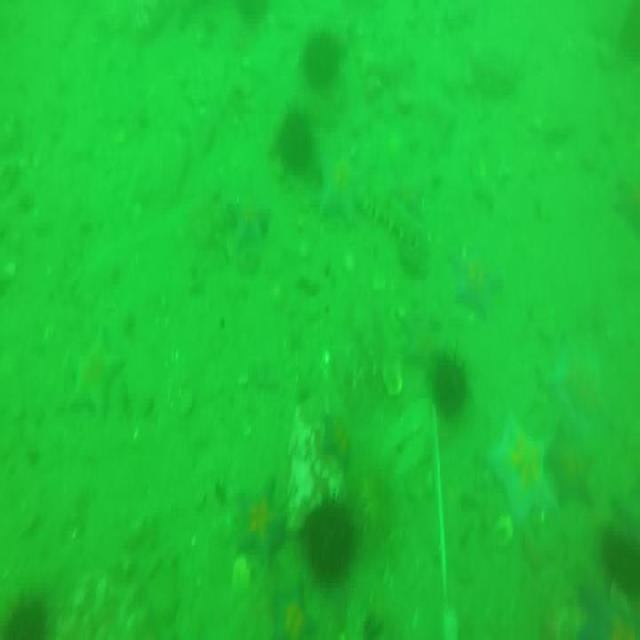echinus: (298, 501, 353, 580), (270, 103, 318, 169), (432, 354, 471, 422), (303, 25, 344, 87), (606, 523, 638, 602), (2, 600, 52, 640)
holothurian: (372, 185, 428, 253)
scallop: (384, 356, 403, 398)
starfish: (487, 414, 559, 531), (544, 332, 606, 441), (230, 484, 289, 566), (67, 333, 118, 422), (452, 238, 502, 322), (318, 153, 366, 224), (226, 182, 266, 251), (265, 584, 314, 640)
